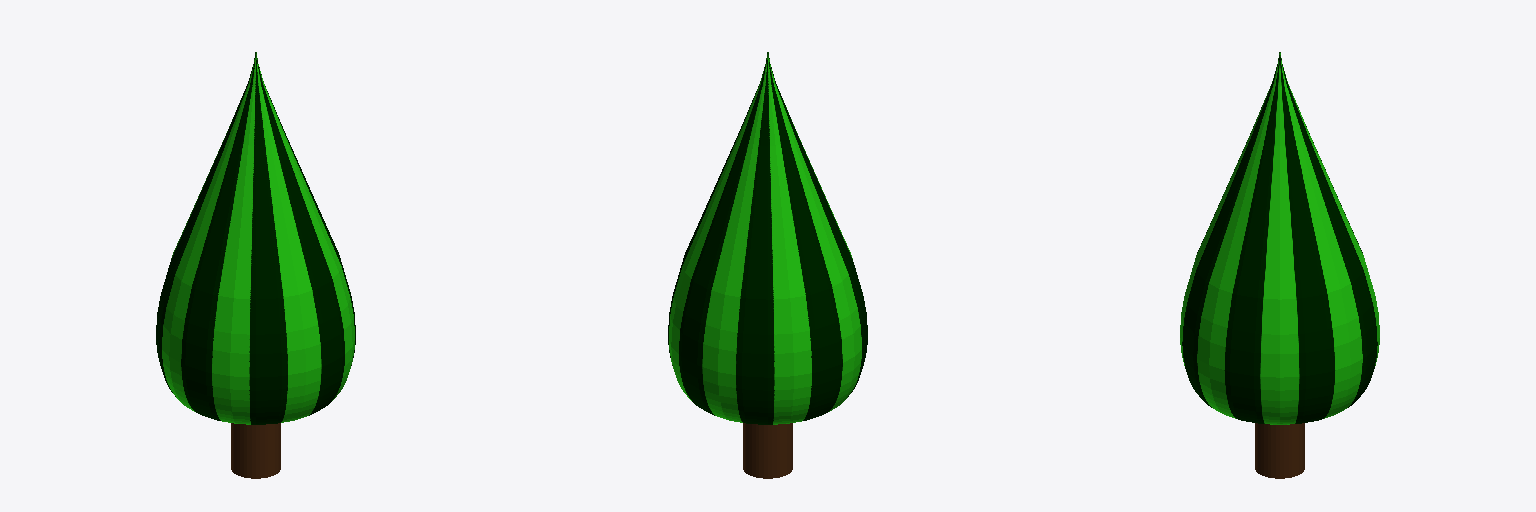
3 views of the same model, side by side, from view 1: azimuth 30°, elevation 25°; view 2: azimuth 150°, elevation 25°; view 3: azimuth 270°, elevation 25° (orthographic).
Visible parts, largest first — view 1: Tree, Cylinder; view 2: Tree, Cylinder; view 3: Tree, Cylinder.
Part boxes in pixels (bbox=[...]): Tree: bbox=[156, 52, 355, 424]; Cylinder: bbox=[231, 423, 280, 478]; Tree: bbox=[668, 52, 867, 424]; Cylinder: bbox=[743, 423, 792, 478]; Tree: bbox=[1180, 52, 1379, 424]; Cylinder: bbox=[1255, 423, 1304, 478].
Bounding box in the file's own units: 44.36 × 104 × 44.36.
2 materials, 1 textured.